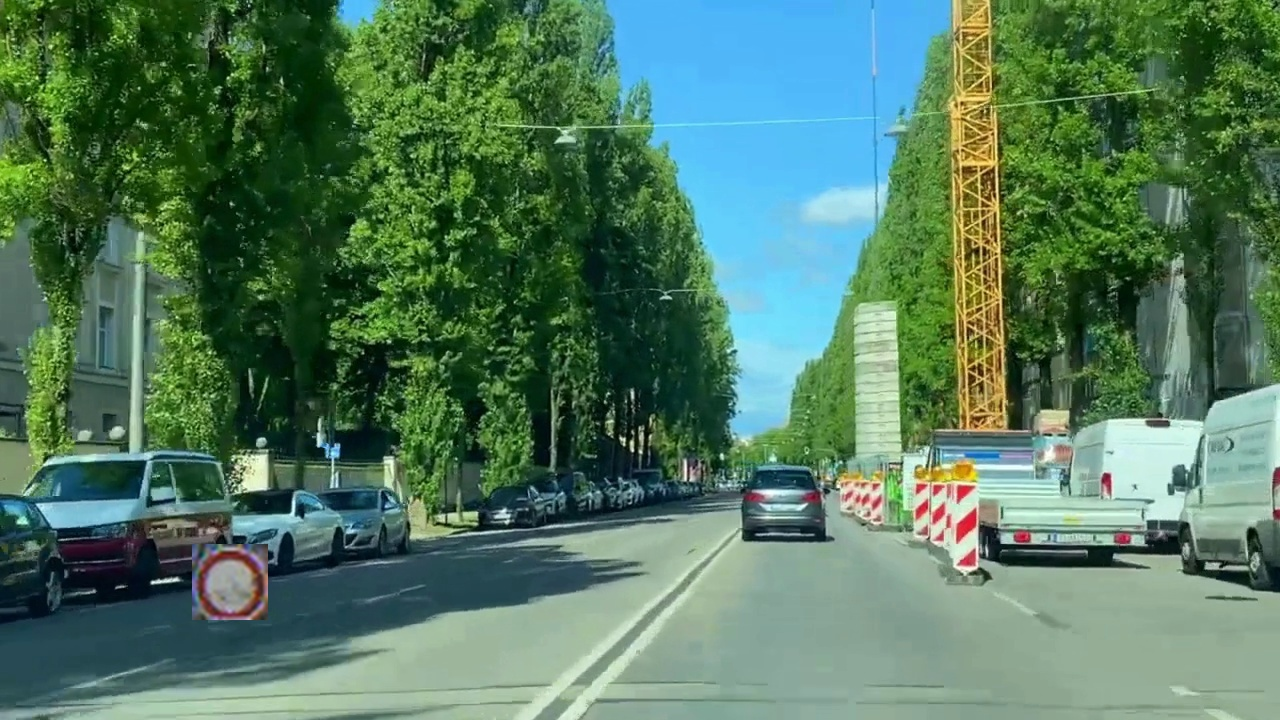No vehicles: (192, 544, 268, 620)
